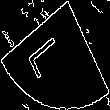L_NE: (34, 28, 76, 82)
